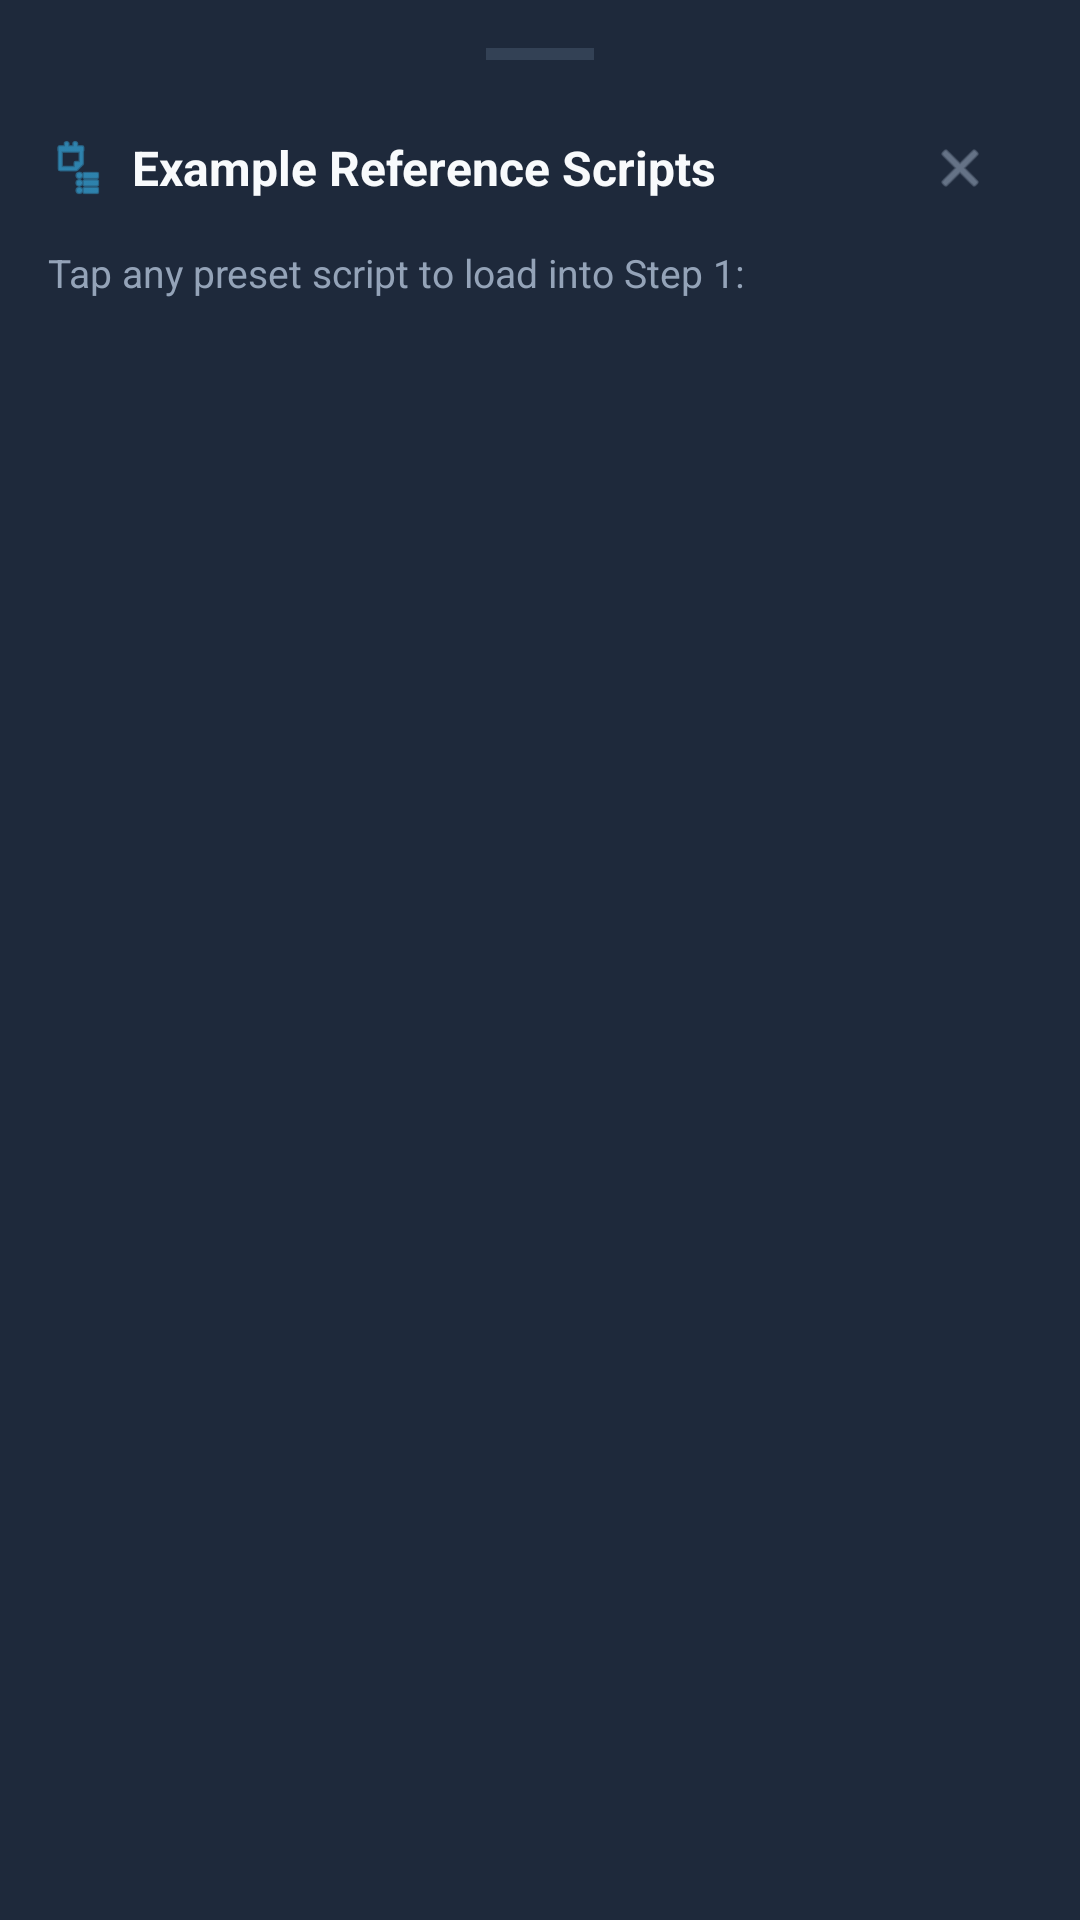

Point at icon controls on the screen. Image size 1080 x 1920, points as (x=x, y=y).
agenda: (x=78, y=167)
Close: (x=960, y=168)
